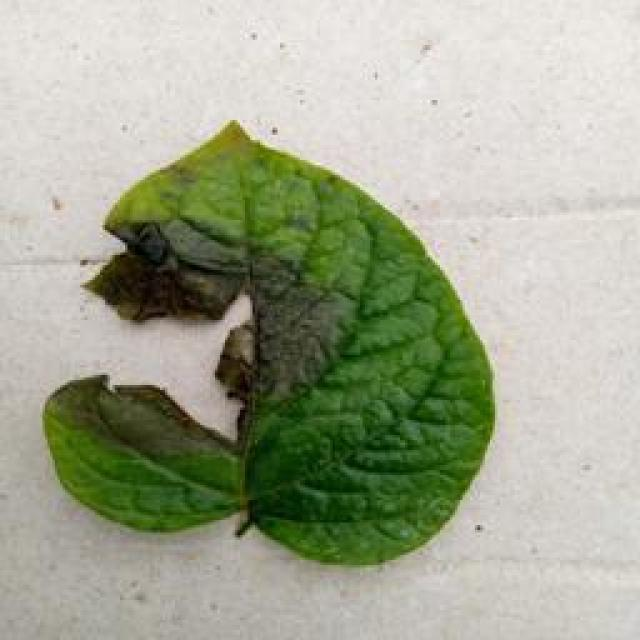late_blight: (38, 115, 500, 570)
